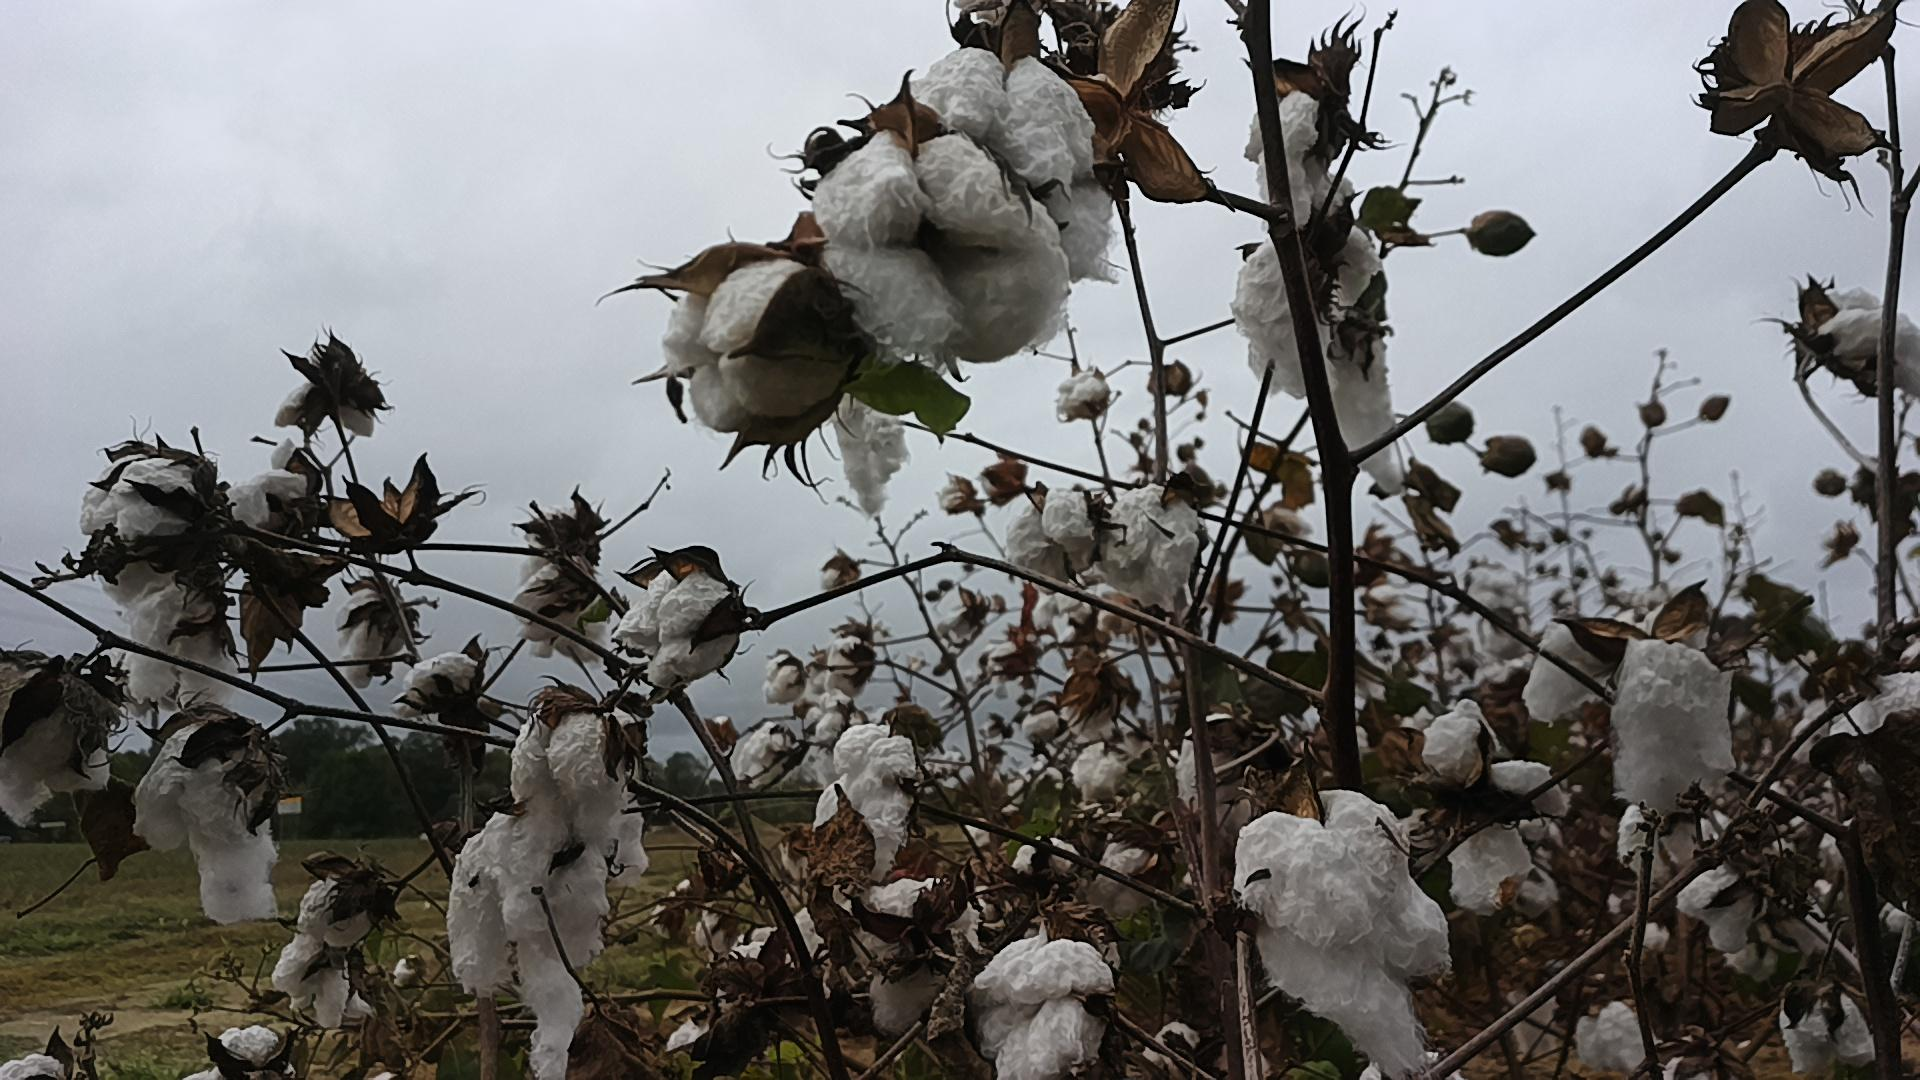cotton_ready: (814, 127, 1077, 371), (1238, 789, 1453, 1080), (901, 50, 1129, 287), (446, 810, 612, 1080), (1522, 603, 1735, 808), (659, 256, 855, 435), (1422, 699, 1569, 916), (1234, 175, 1375, 396), (133, 724, 280, 923), (104, 563, 243, 720), (969, 936, 1117, 1080), (509, 703, 629, 857), (1676, 856, 1834, 971), (82, 454, 200, 605), (815, 723, 919, 890), (274, 876, 381, 1036), (0, 687, 116, 829), (611, 566, 740, 690), (1331, 318, 1407, 492), (1788, 665, 1920, 764), (1101, 488, 1207, 607), (516, 526, 605, 662), (1816, 281, 1920, 396), (869, 923, 964, 1035), (1245, 90, 1317, 231), (222, 436, 318, 537), (833, 394, 909, 520), (1002, 485, 1098, 583), (1172, 713, 1258, 819), (1778, 992, 1879, 1080), (335, 589, 407, 690), (1575, 1000, 1658, 1079), (1614, 804, 1704, 877), (1068, 737, 1159, 800), (392, 653, 473, 719), (865, 874, 956, 920), (738, 723, 795, 795), (214, 1021, 286, 1069), (0, 1051, 67, 1080)
